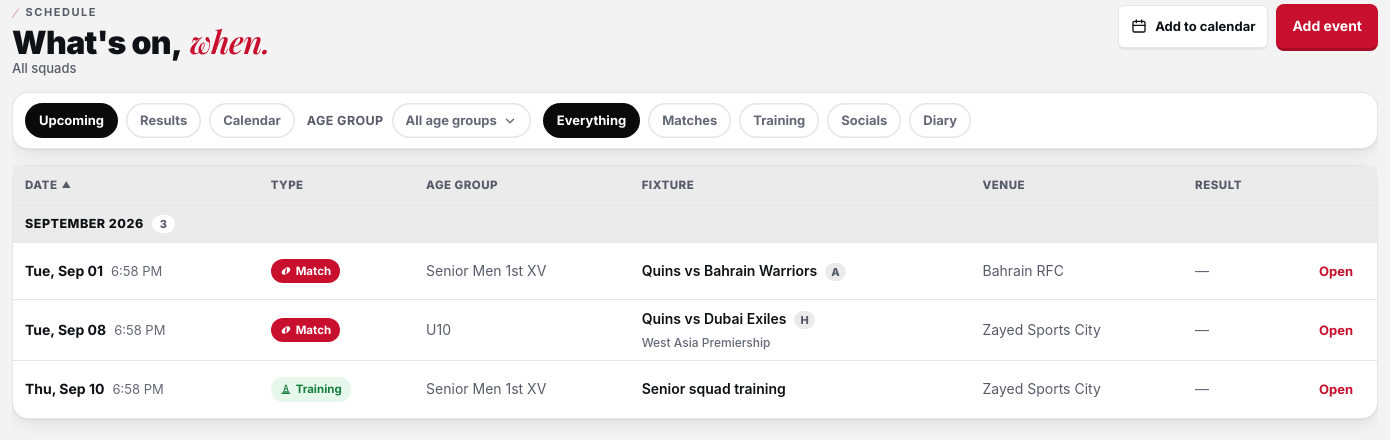
Scenario: Schedule — team filter › filters the list to the selected team
Check: the text "Quins vs Dubai Exiles" is shown, box [642,310,786,328]
Check: the text "Senior squad training" is shown, box [642,380,786,397]
Click the dropdown labelled "All age groups": (461, 121) [392,104,531,138]
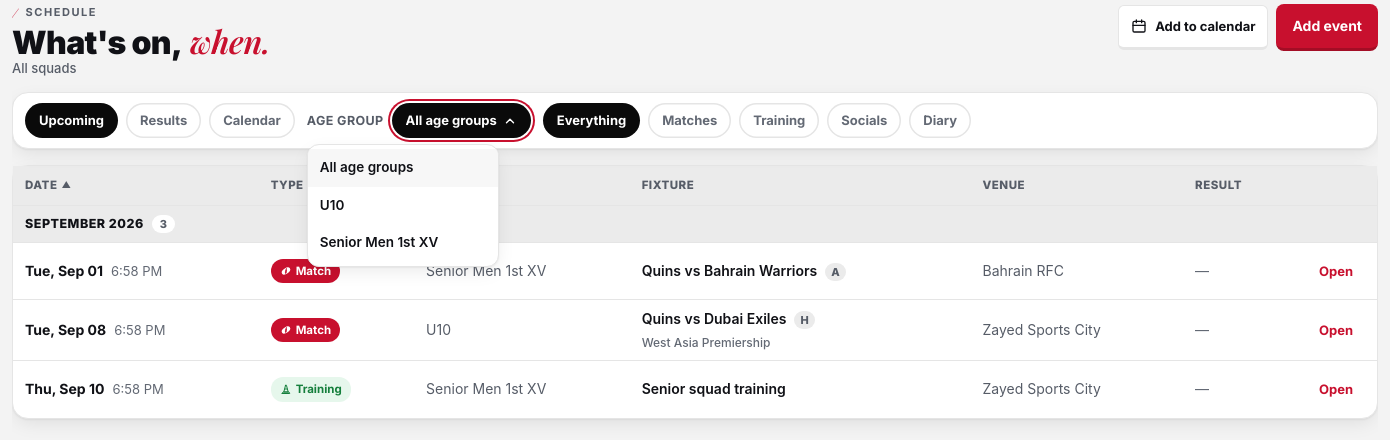
Click the option "U10": (403, 206) [308,187,498,224]
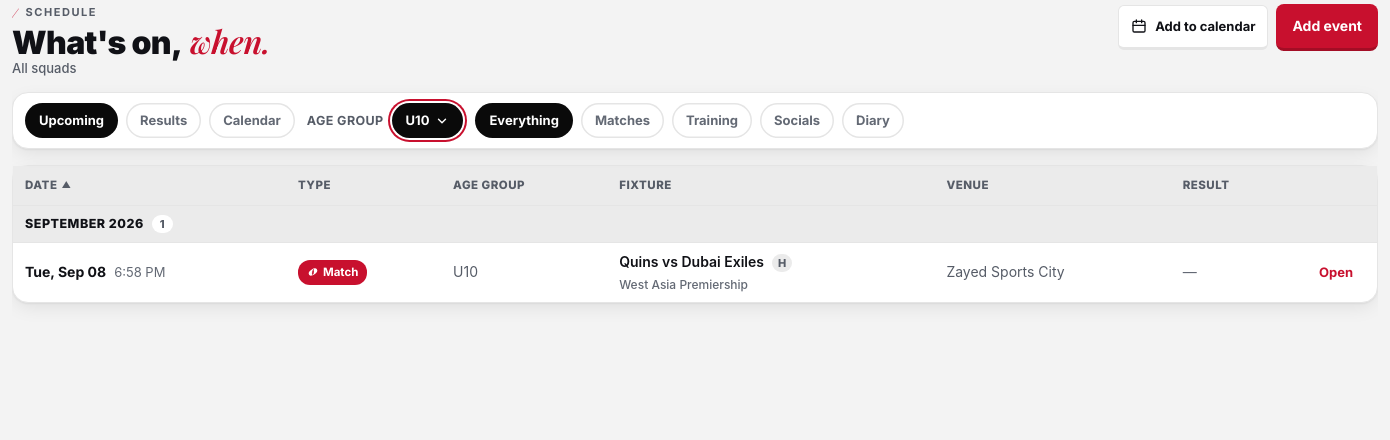
Check: the text "Quins vs Dubai Exiles" is shown, box [619,253,764,270]
Check: the text "Senior squad training" is gone
